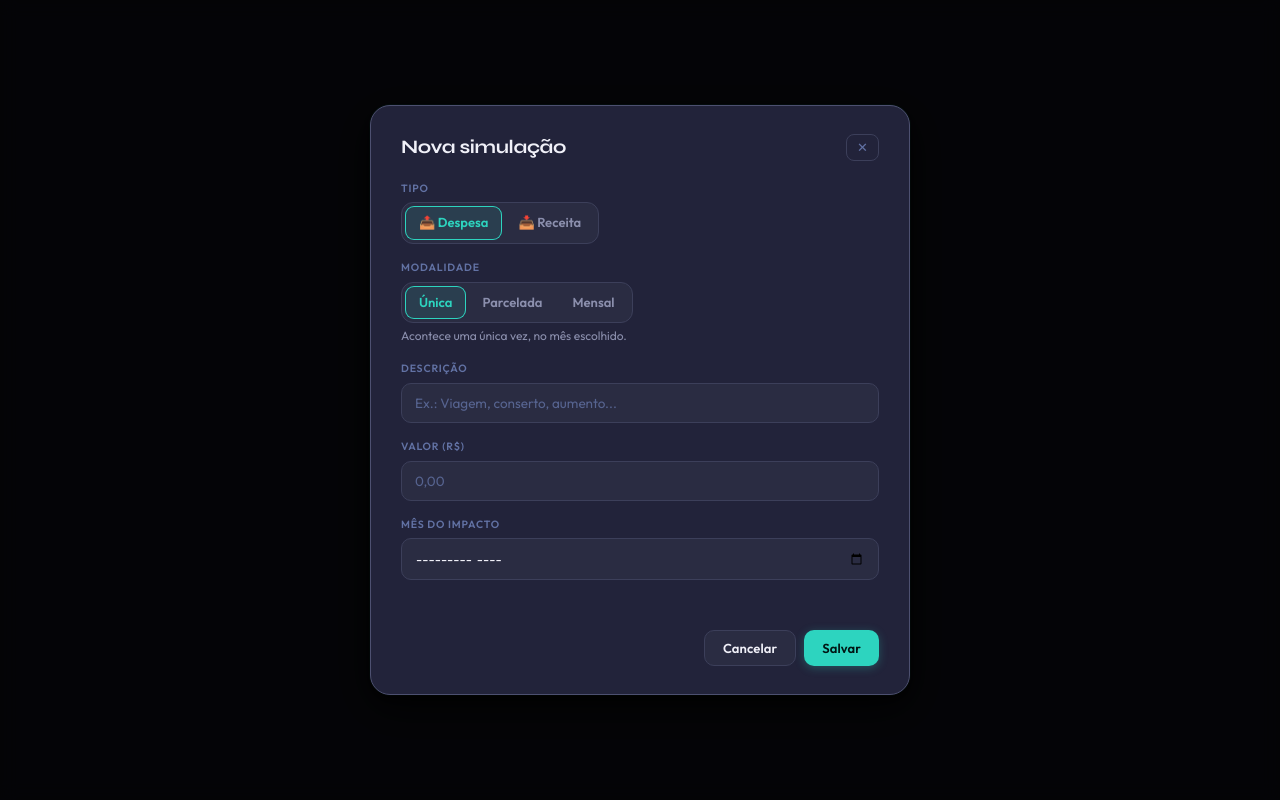
Test: SimulationForm: validação visível, sem retorno silencioso › exige o mês de início
This screenshot has width=1280, height=800.
Type "Viagem" into the field labelled "Descrição" at point(640, 403), box [401,383,879,423]
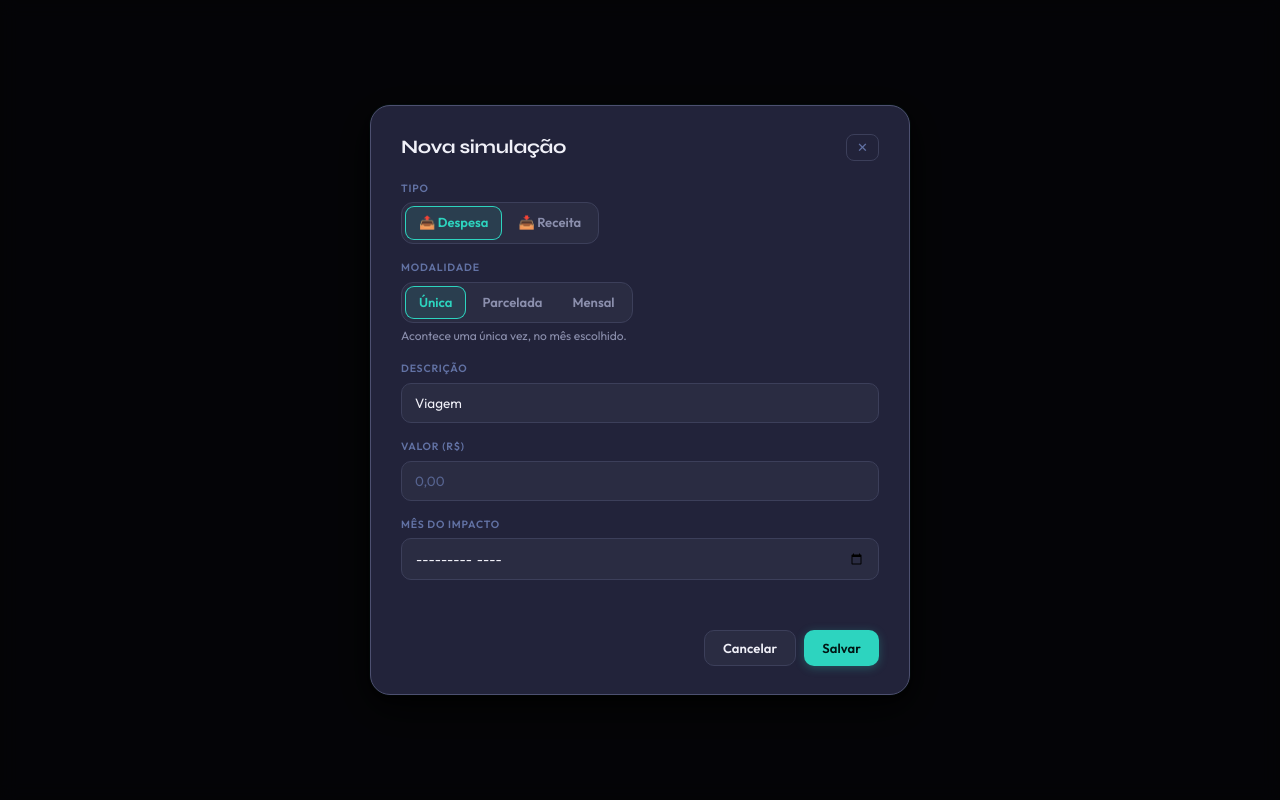
Type "500,00" into the field labelled "Valor (R$)" at point(640, 480), box [401,460,879,500]
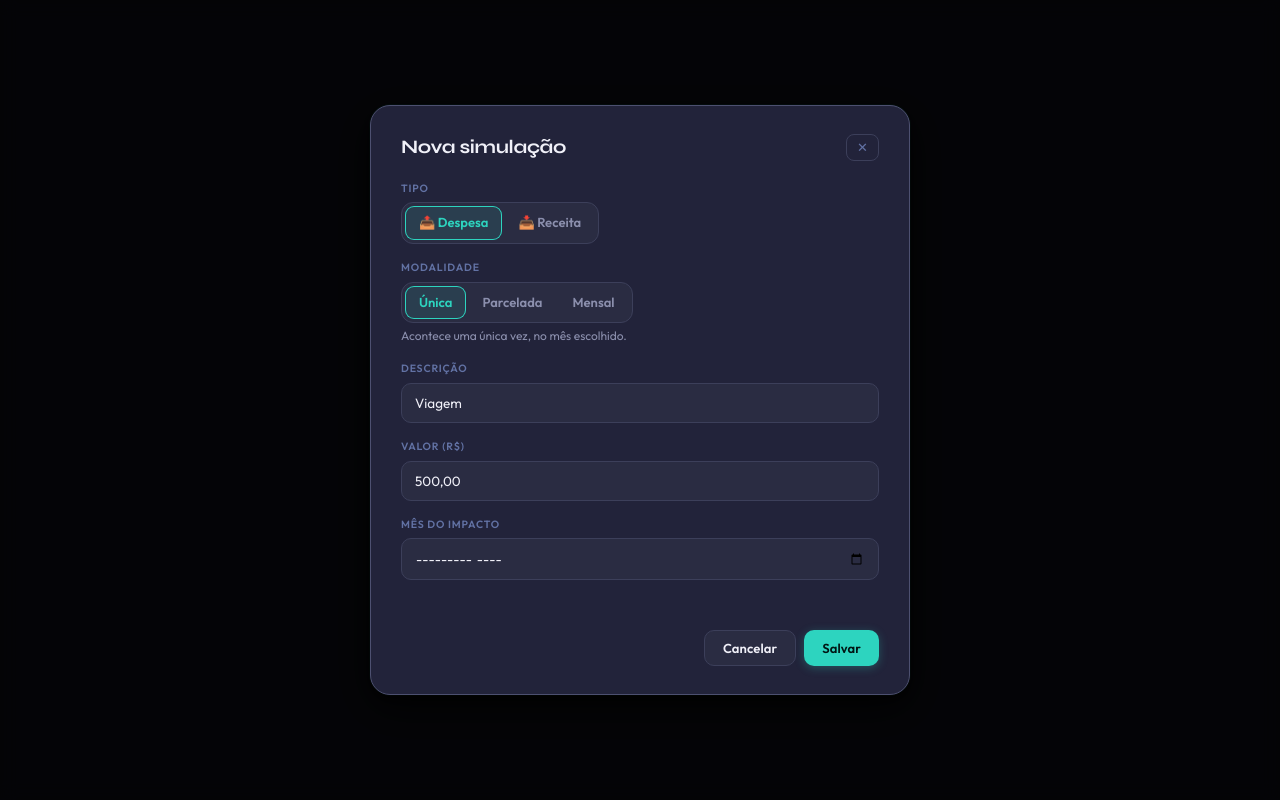
Submit the form, box [401,181,879,666]
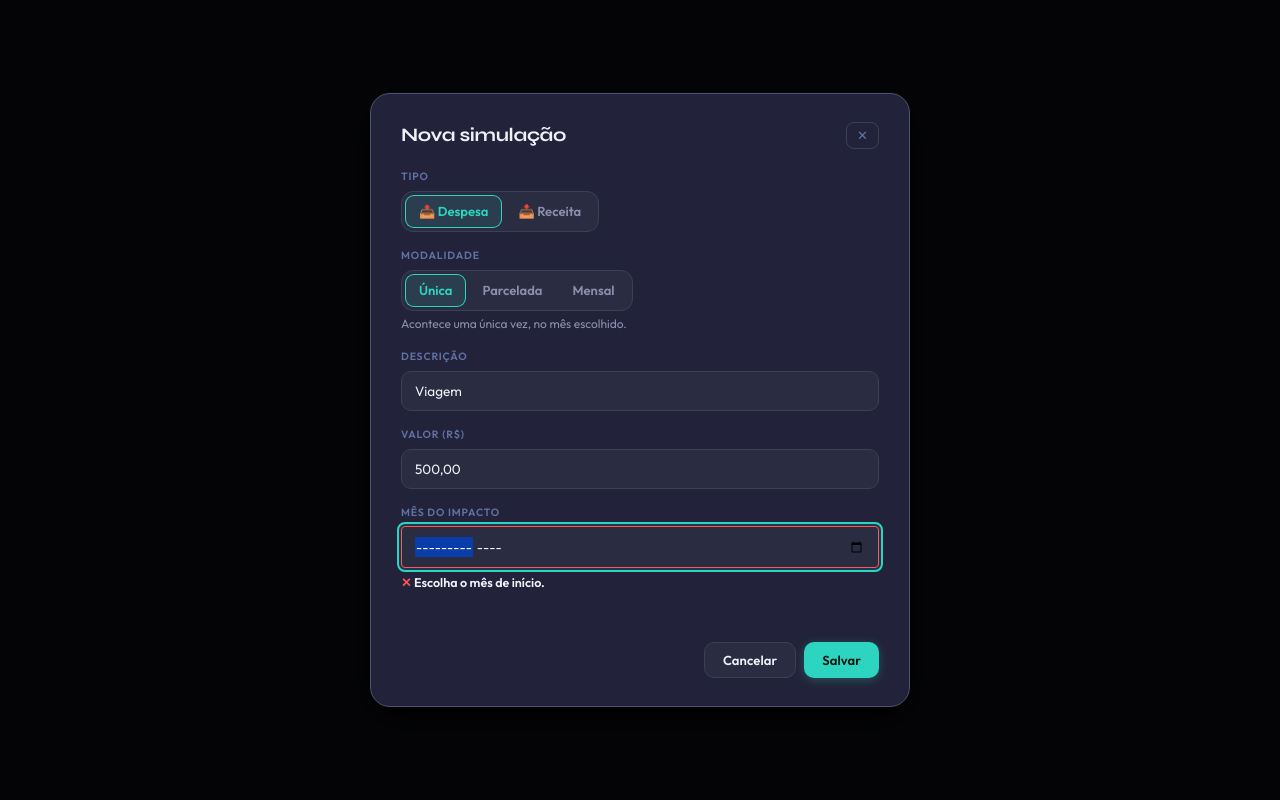
Expected: the message shows "mês de início", [414,574,545,590]
